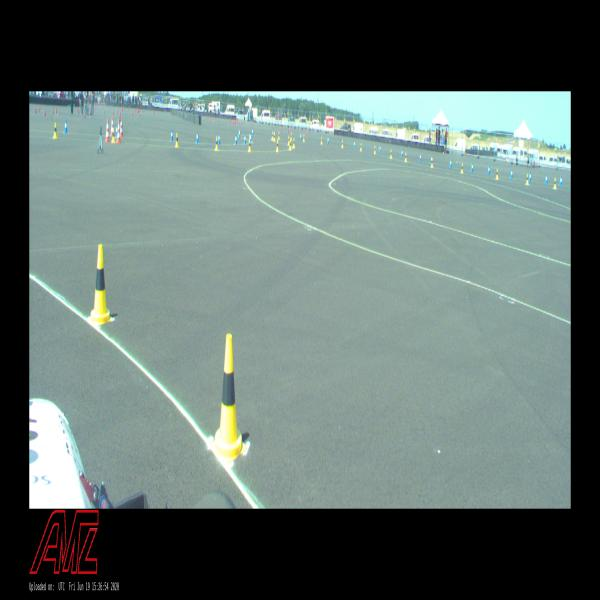blue_cone: (170, 128, 174, 142), (64, 119, 68, 133), (115, 124, 118, 138), (196, 131, 199, 144), (510, 168, 513, 179), (449, 158, 452, 169), (249, 132, 252, 143), (238, 128, 241, 138), (545, 174, 548, 184), (353, 140, 356, 149), (218, 132, 220, 145), (235, 133, 237, 145), (488, 164, 490, 176), (430, 156, 433, 164), (560, 175, 562, 186), (419, 152, 421, 163), (529, 171, 531, 182), (471, 162, 473, 173), (244, 134, 246, 144), (379, 144, 381, 153), (401, 149, 403, 157), (327, 136, 329, 144), (300, 133, 302, 141), (252, 128, 254, 136)
large_orange_cone: (116, 120, 122, 144), (105, 118, 110, 144), (120, 116, 124, 138), (110, 116, 114, 136)
yellow_cone: (211, 334, 247, 464), (89, 244, 112, 327), (214, 136, 219, 151), (175, 132, 179, 148), (111, 127, 115, 143), (54, 123, 57, 139), (248, 139, 251, 152), (461, 163, 464, 174), (289, 140, 292, 151), (404, 152, 407, 162), (320, 136, 323, 146), (287, 136, 290, 146), (271, 131, 274, 140), (276, 140, 278, 152), (496, 168, 498, 179), (431, 157, 433, 168), (390, 149, 392, 159), (293, 138, 295, 148), (554, 178, 556, 188), (526, 174, 528, 184), (374, 144, 376, 154), (360, 142, 362, 152), (274, 132, 276, 142), (303, 134, 305, 143), (290, 132, 292, 141), (278, 131, 280, 140), (341, 140, 343, 148)
